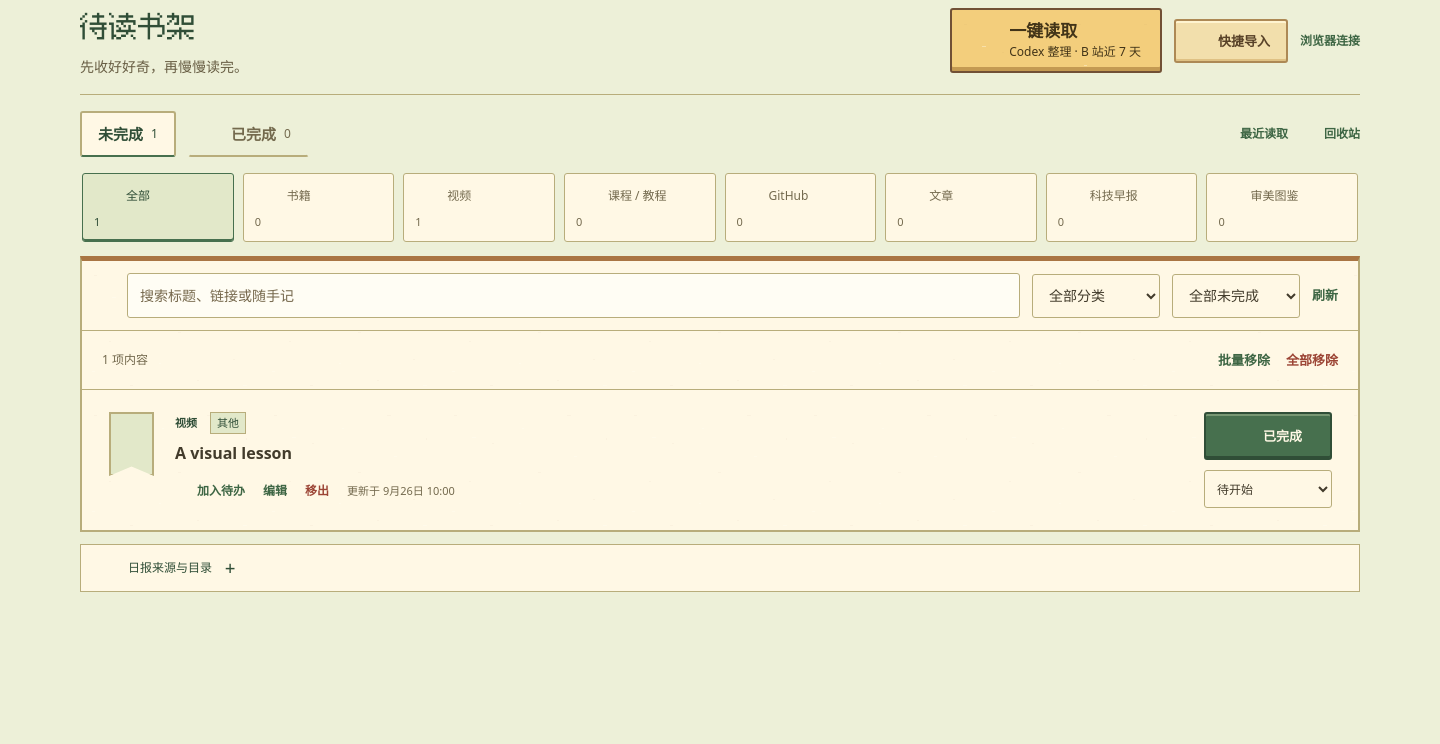
Scenario: compact shelf navigation and categories › saves a corrected category without changing the material type
Click the button "编辑" at [275, 491], box [263,475,287,507]
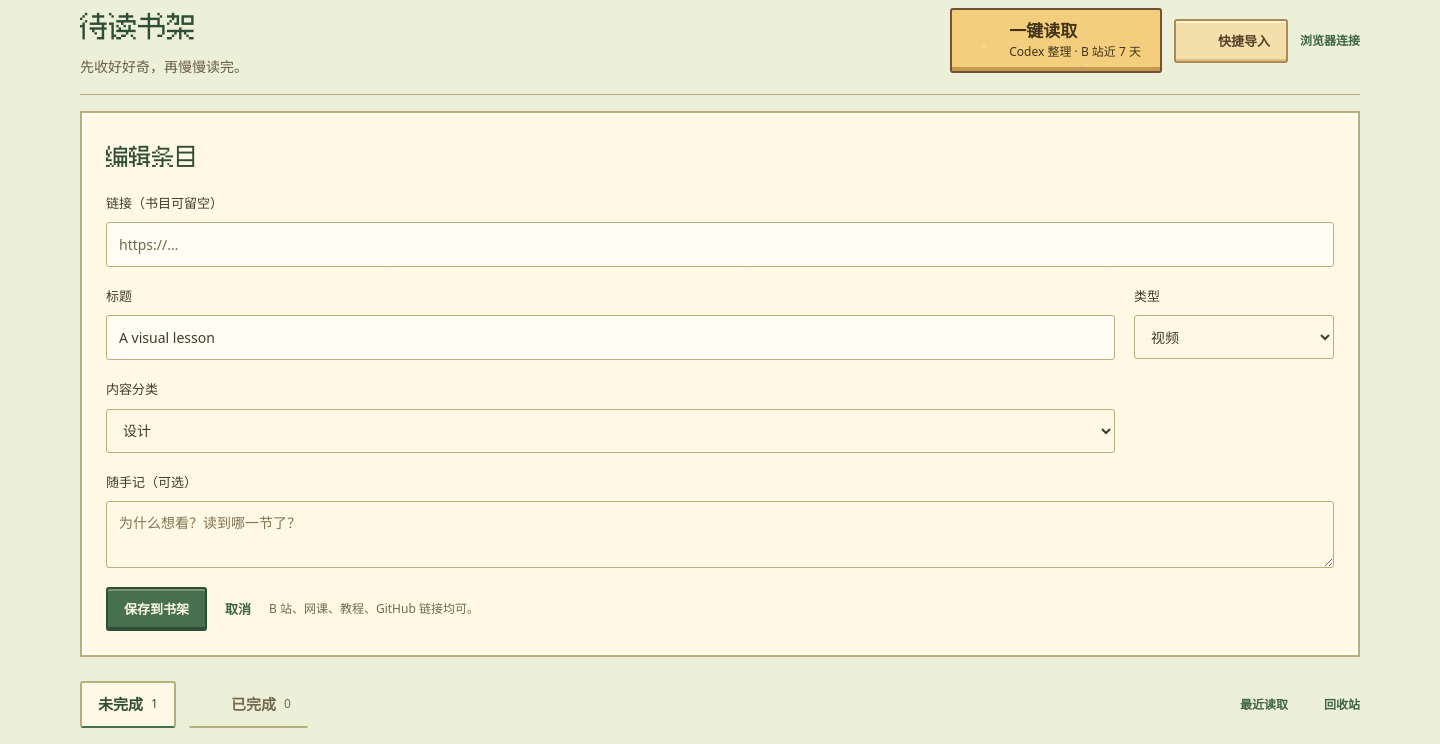
Select "设计" in the dropdown labelled "内容分类" at [610, 431], box [106,409,1115,453]
Submit the form, box [106,193,1334,631]
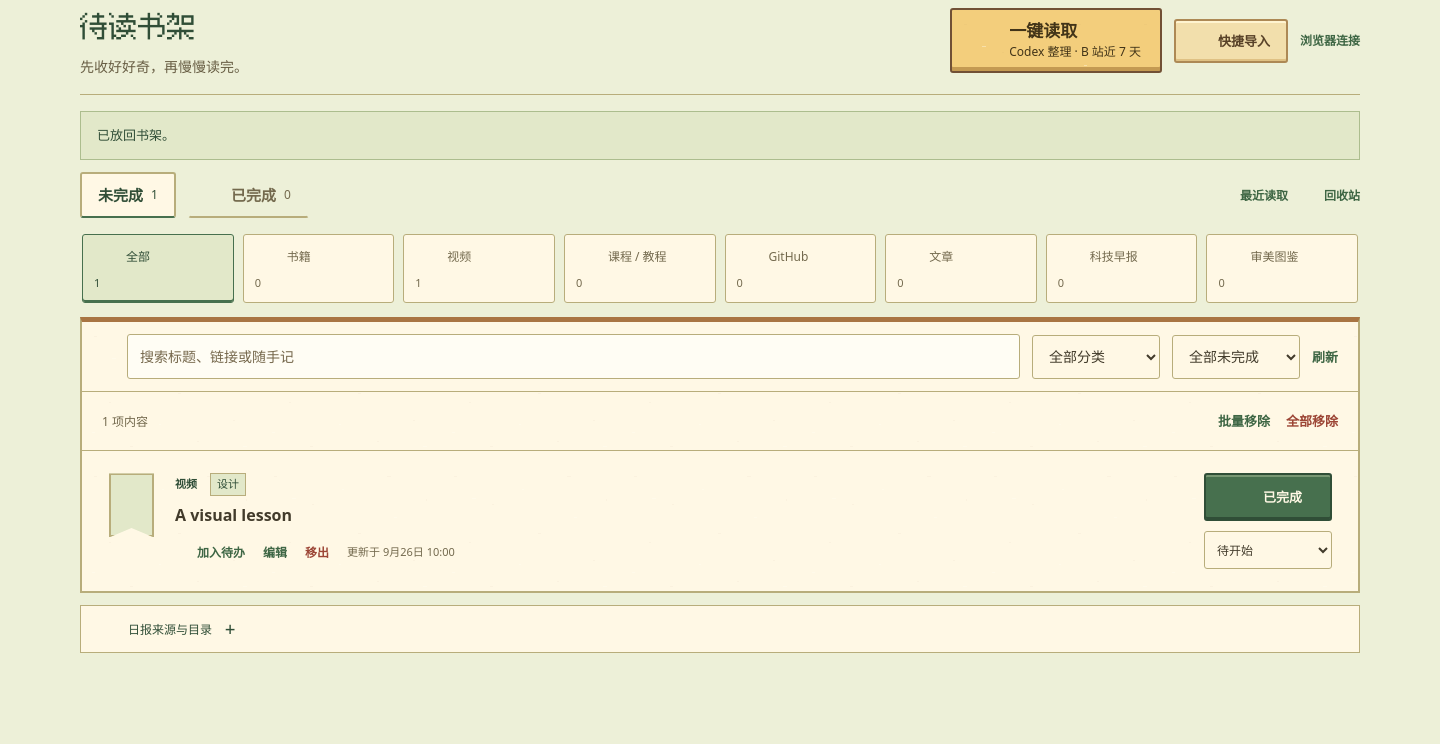
Expected: the text with class "reading-category" reads "设计", [217,476,239,492]
